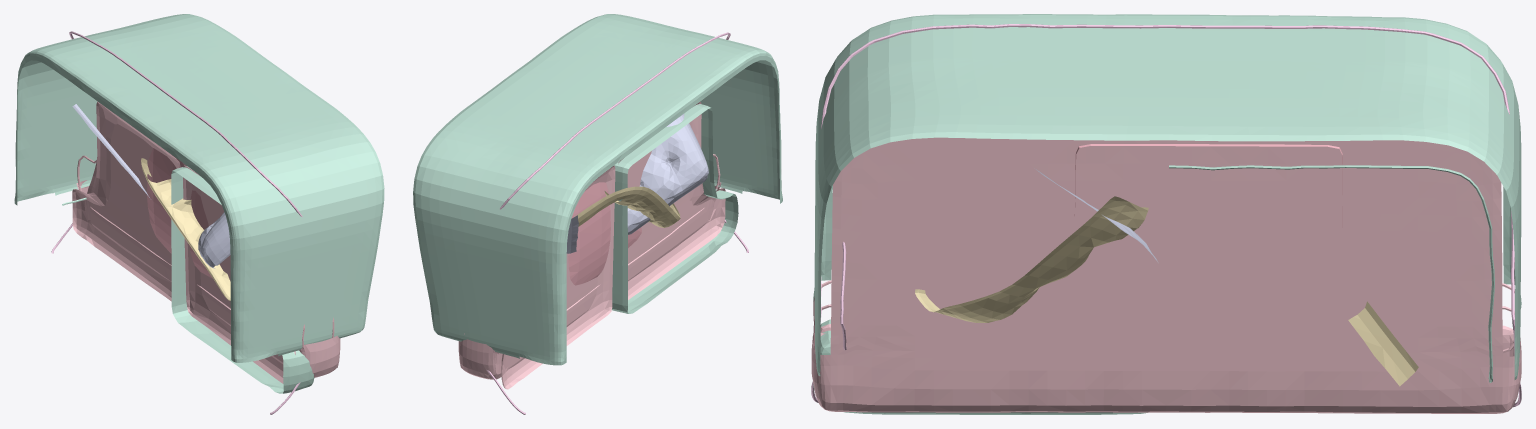
Rendered from view_input_colored.glb.
The picture shows the model from 3 angles, left to right: view 1: azimuth 30°, elevation 25°; view 2: azimuth 150°, elevation 25°; view 3: azimuth 270°, elevation 25°; orthographic projection. The views are drawn at different scales.
Parts seen in each view (by area): view 1: world; view 2: world; view 3: world.
Boxes of the visible parts, x1,y1,x2,y2 form: world: (14, 14, 384, 414); world: (413, 14, 782, 414); world: (811, 14, 1521, 414).
Size of the model in its own units: 0.3935 by 0.5558 by 0.934.
